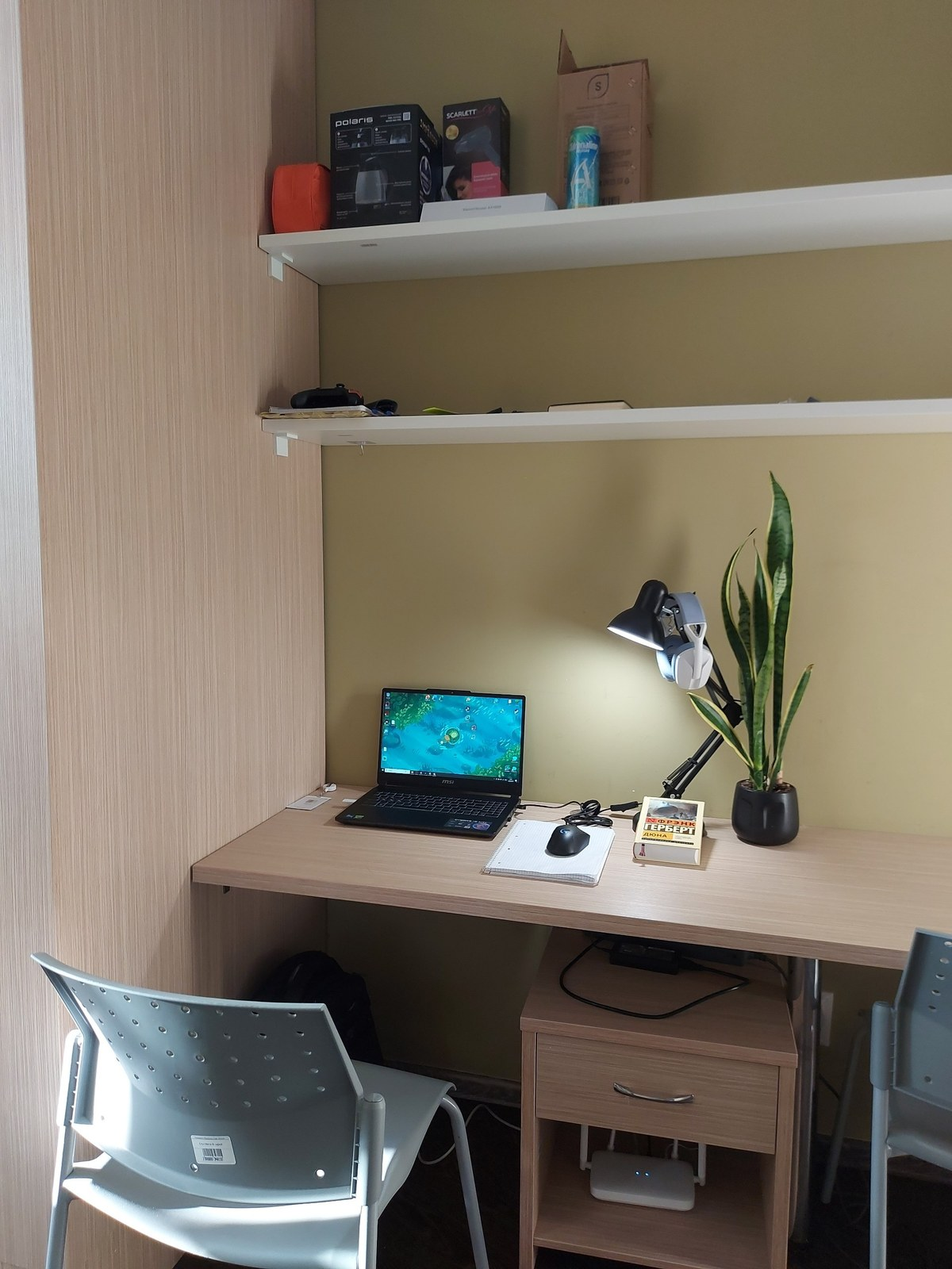laptop: (336, 686, 526, 838)
